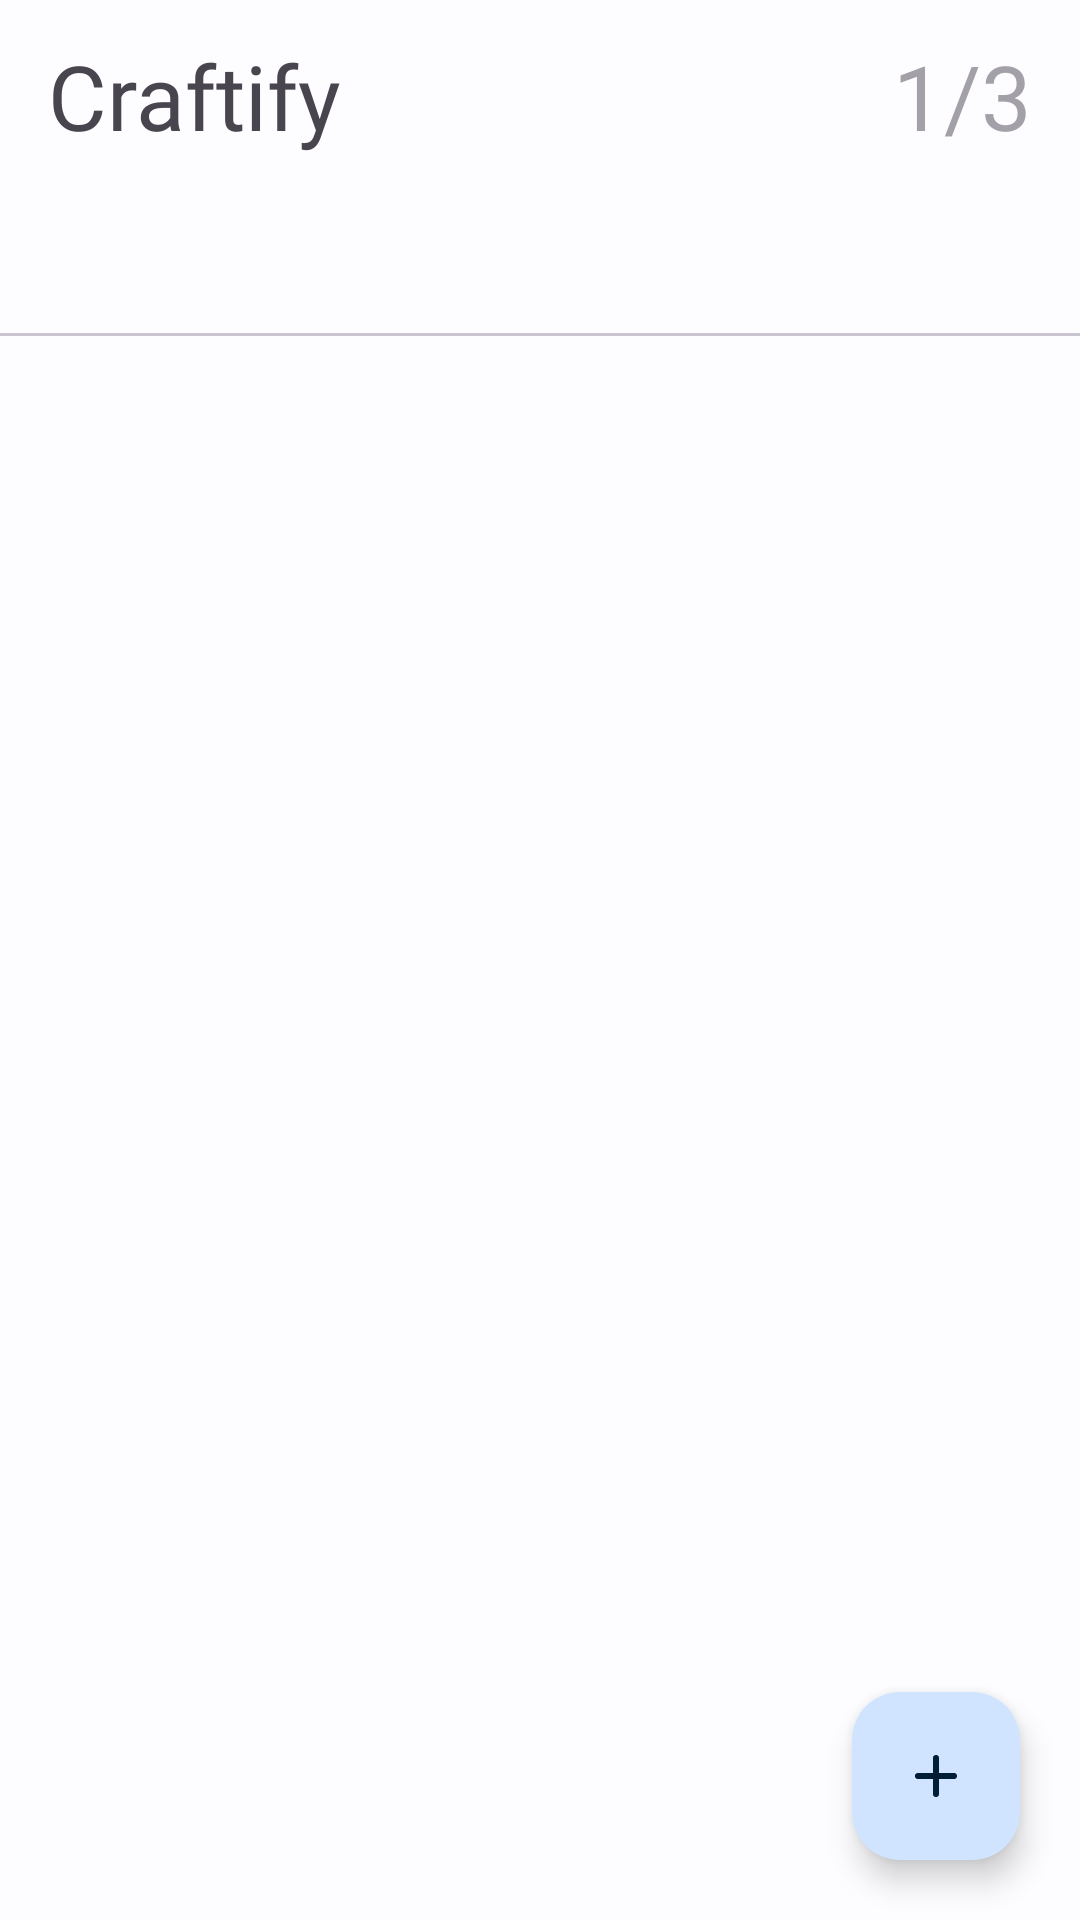

Named icons in this screenshot (1080×1920) and their centers, point (x, y):
plus: point (936, 1776)
